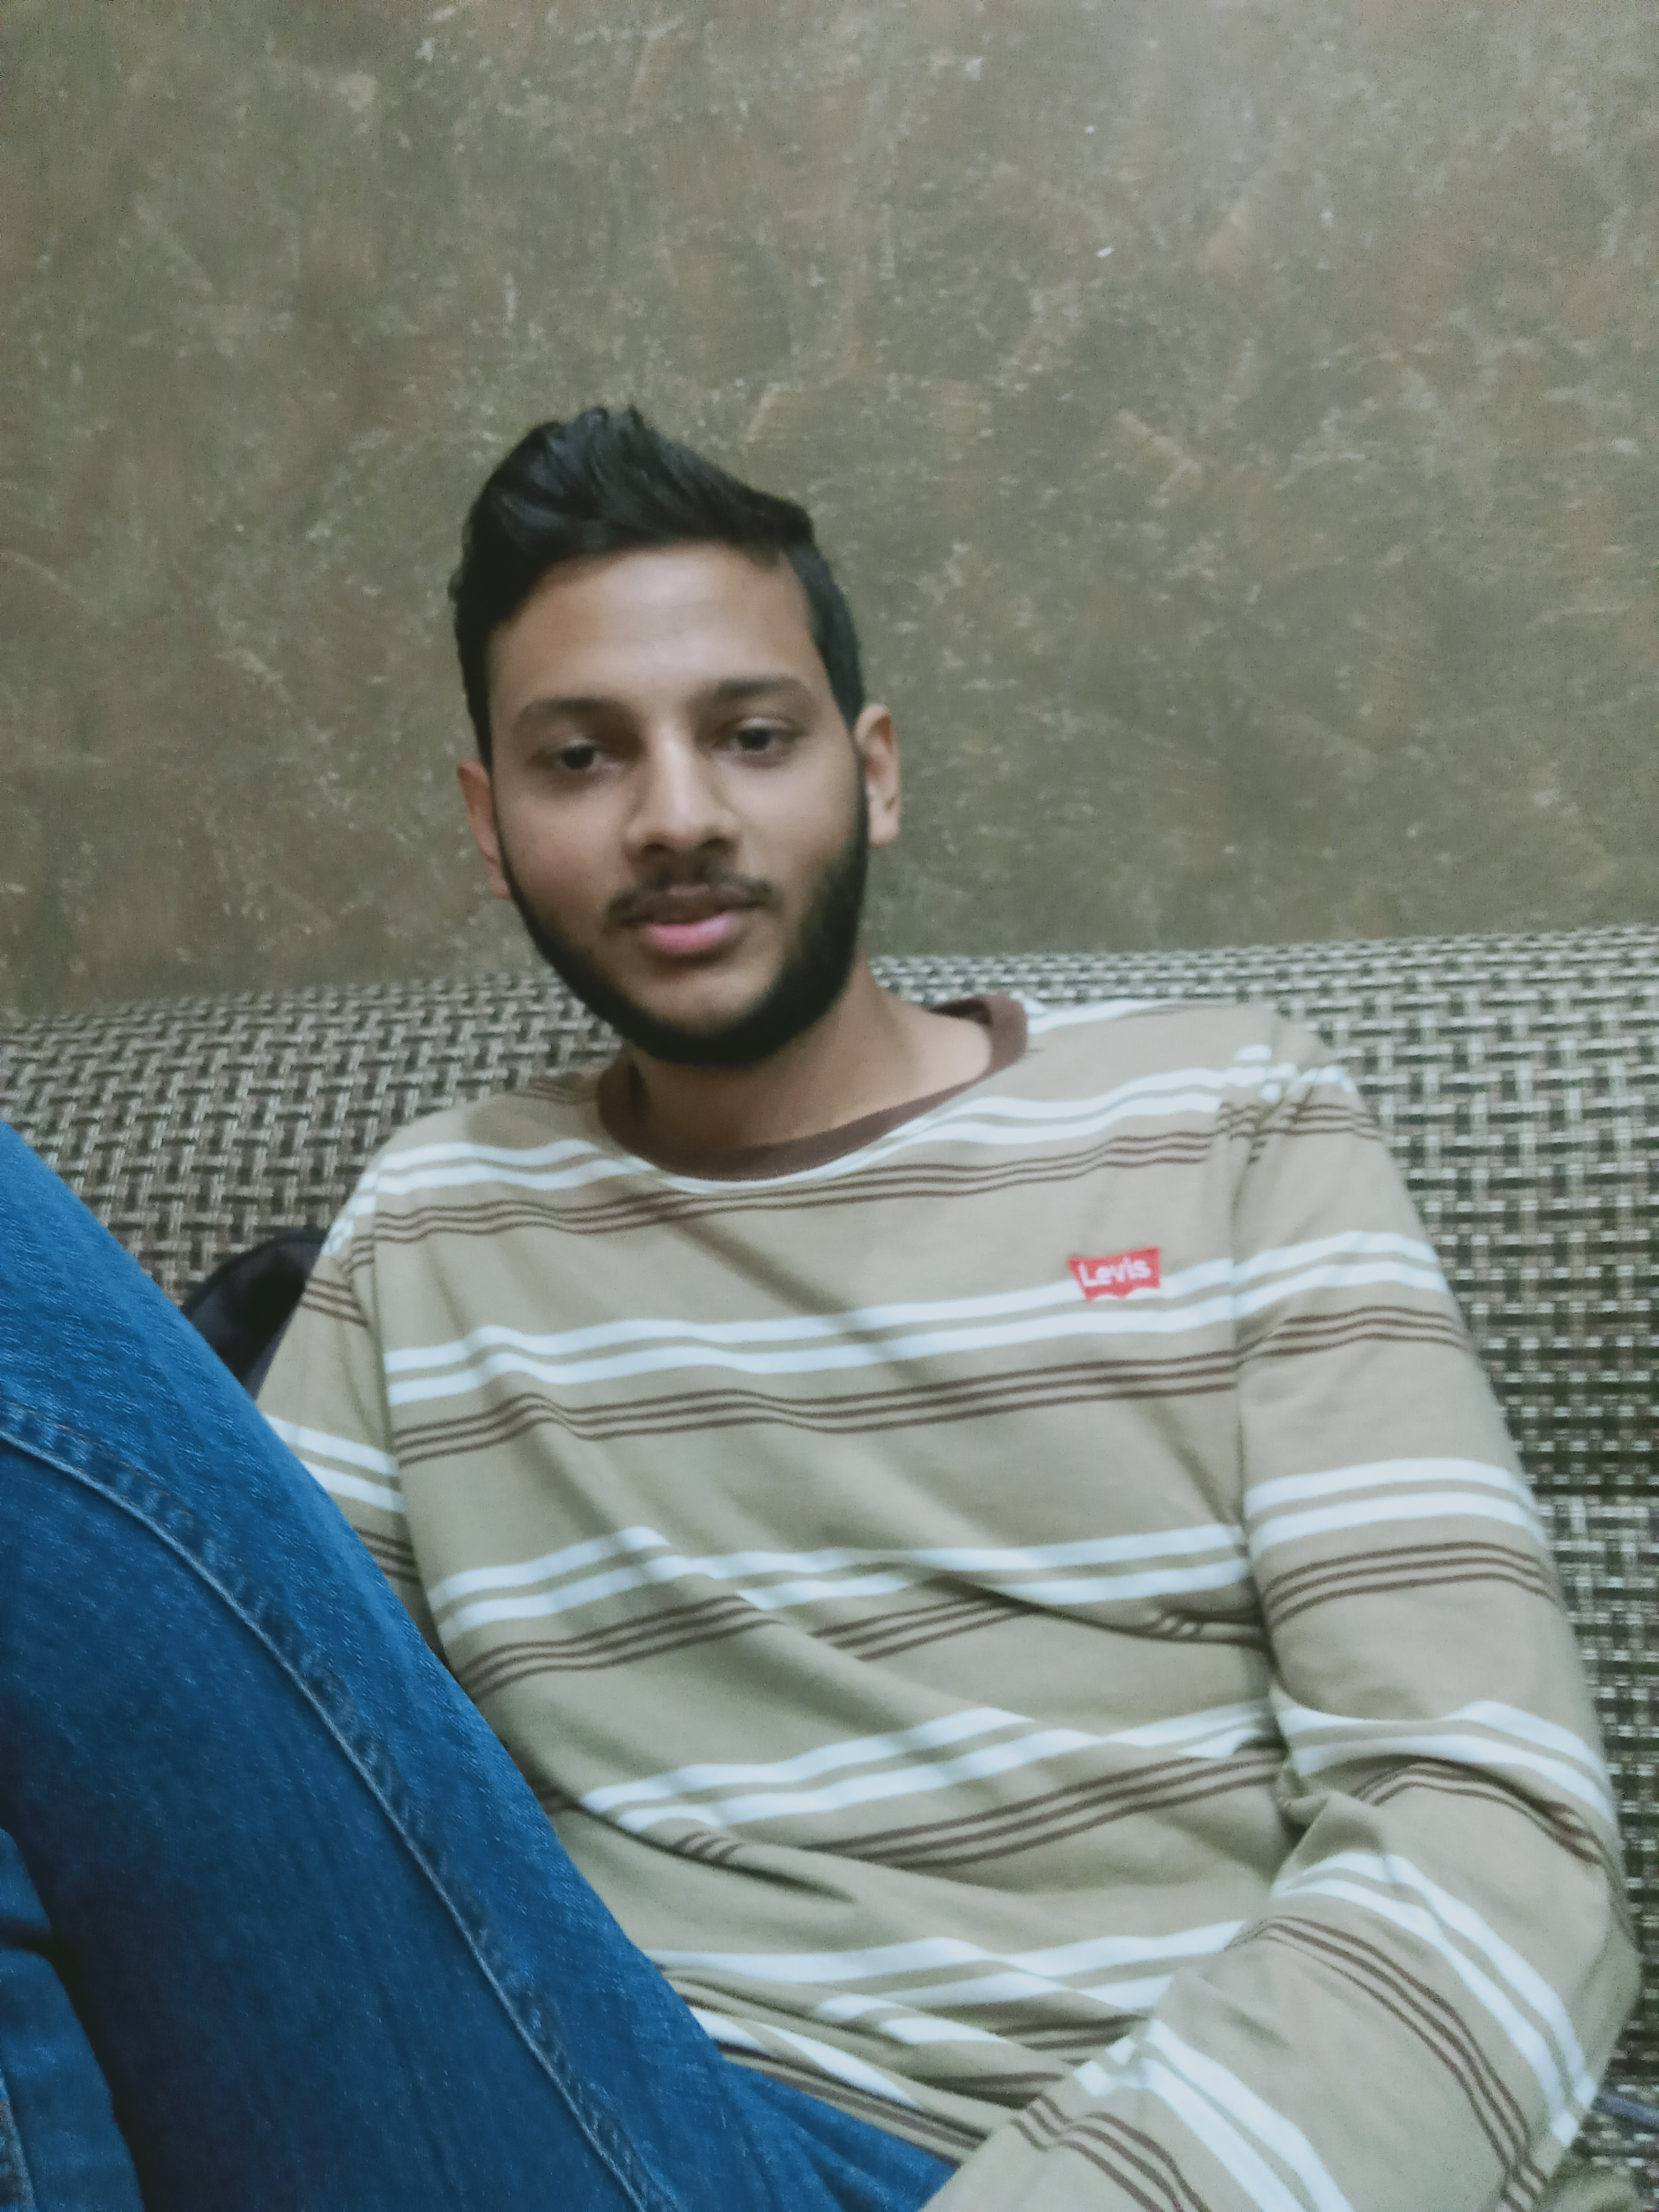NoMask: (491, 659, 870, 1052)
